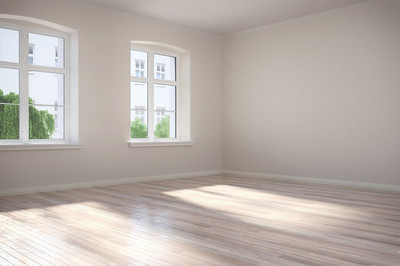wall: (1, 1, 221, 196), (222, 1, 400, 190)
window: (1, 14, 79, 149), (129, 39, 192, 146)
